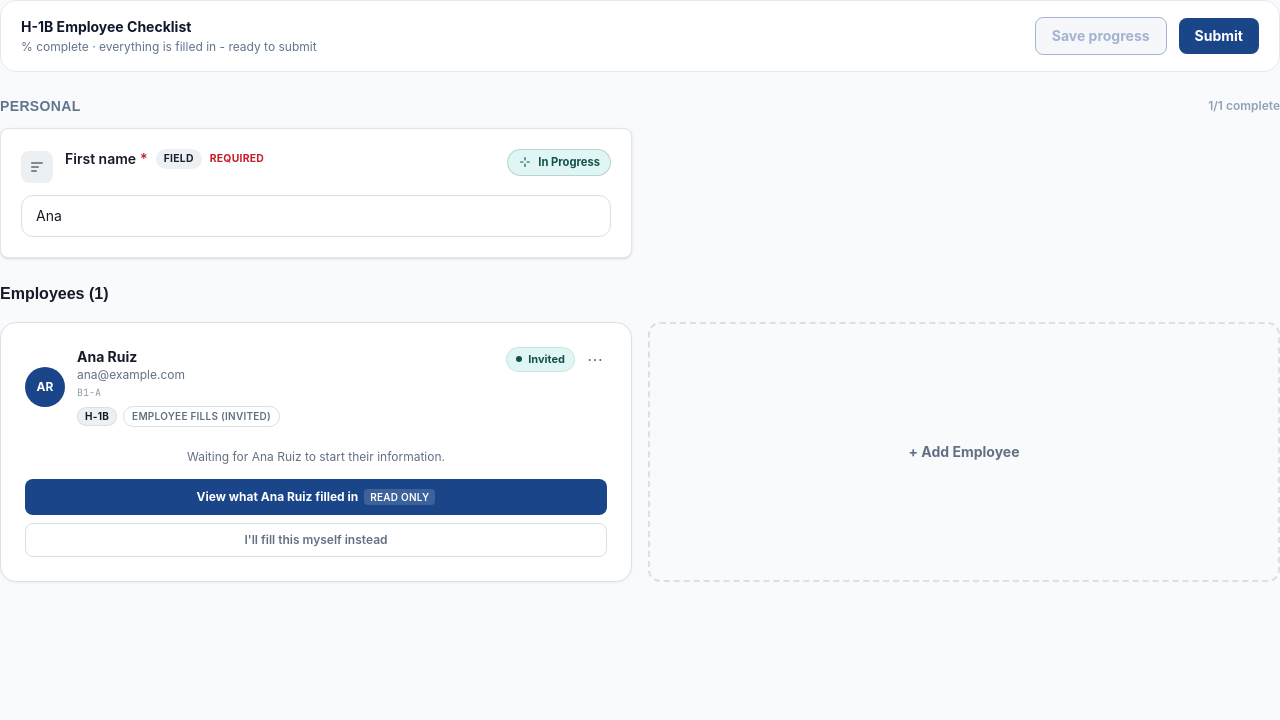
Scenario: read-only view of an invited employee › 'I'll fill this myself instead' asks in a themed centred dialog, then withdraws the access and the SAME screen becomes editable (nothing is lost)
What coordinates should you click on to do the following:
click the button "View what Ana Ruiz filled in"
I would click on:
 (316, 497)
Its box is [25,479,607,515].
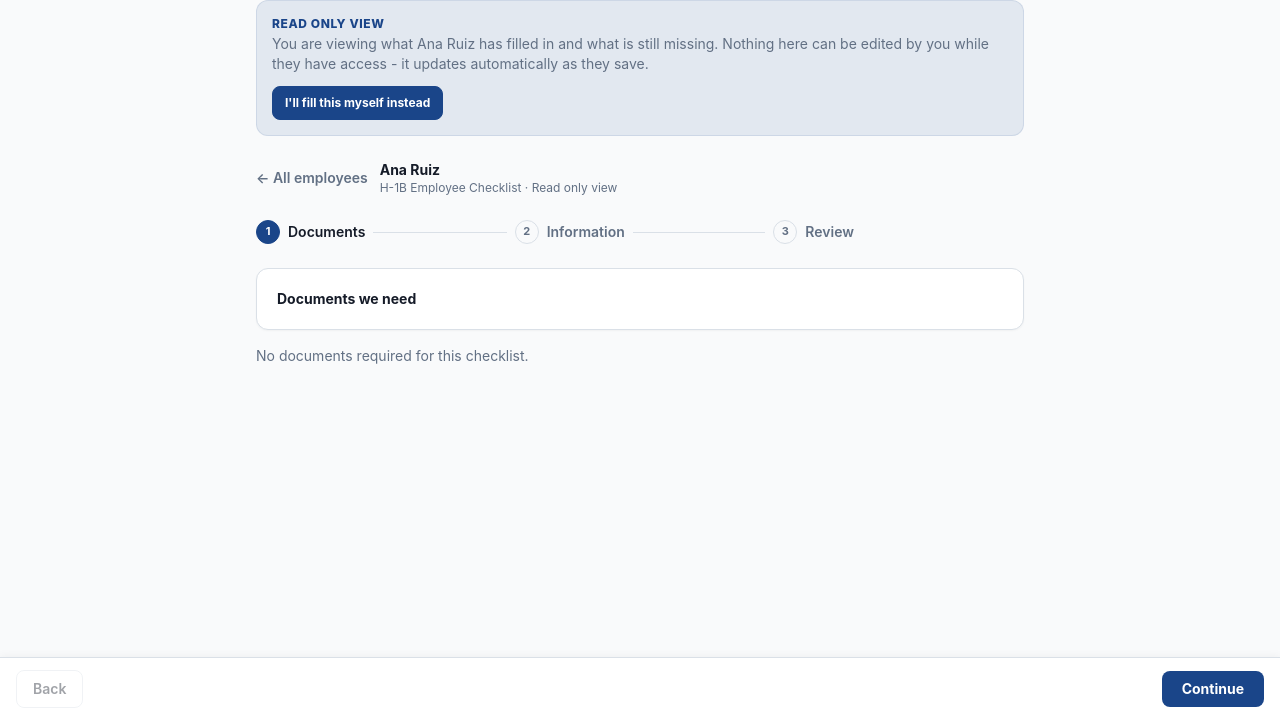
What coordinates should you click on to do the following:
click the button "I'll fill this myself instead"
I would click on:
 (358, 103)
Its box is [272,86,443,120].
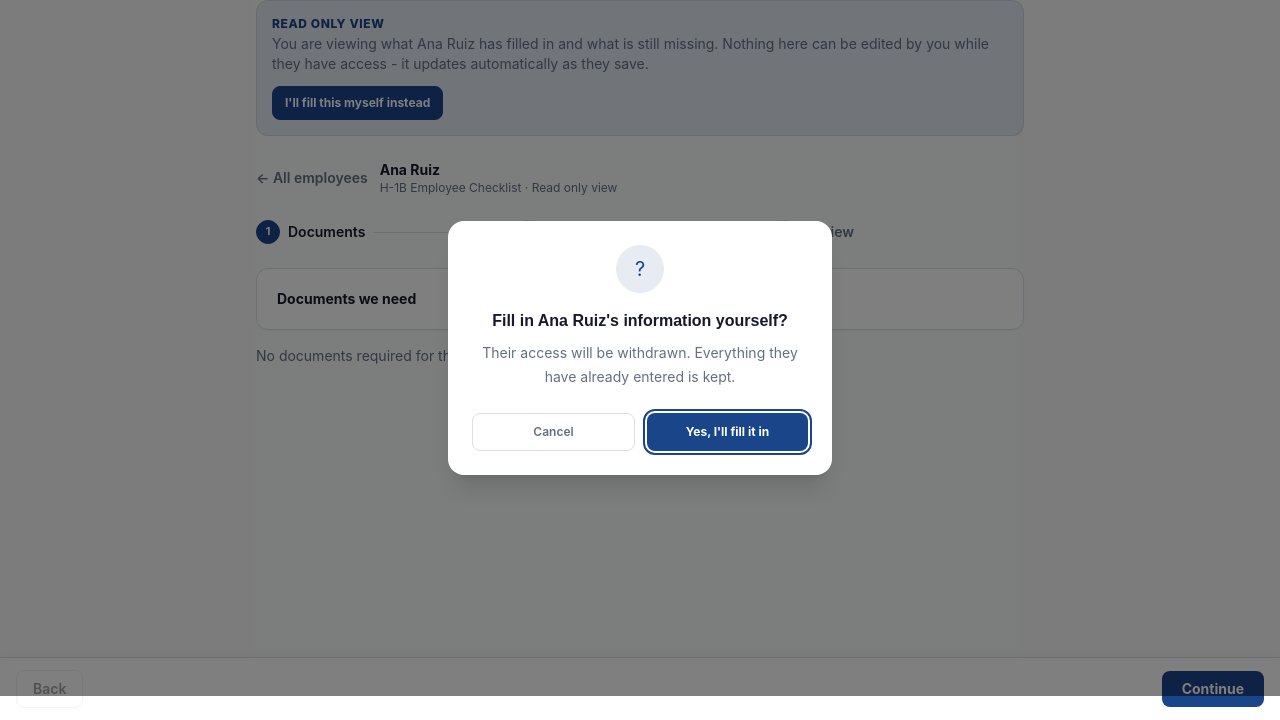
Now the dialog shows "Fill in Ana Ruiz's information yourself?", box [492,312,788,329]
Now the dialog shows "Everything they have already entered is kept", box [482,344,798,385]
What coordinates should you click on to do the following:
click the button "Yes, I'll fill it in"
I would click on:
 (728, 432)
Its box is [647,413,808,451].
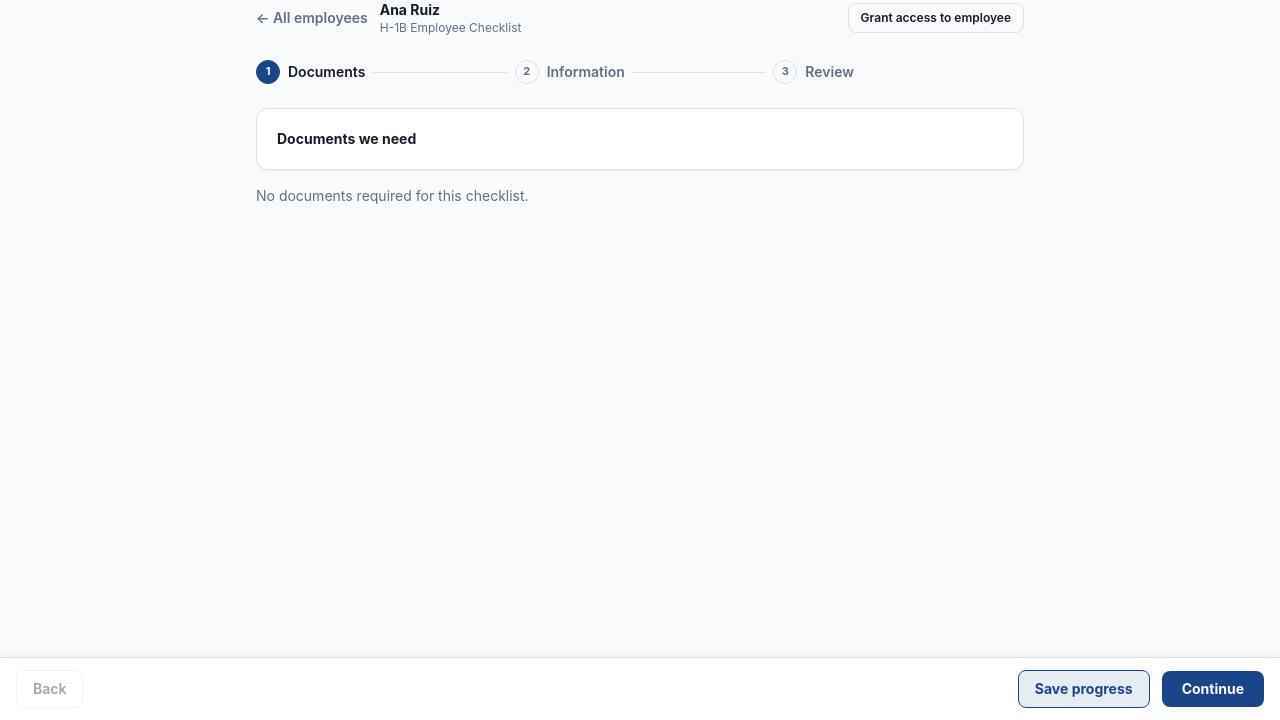
Now the message with test id "read-only-banner" is gone
Now the button "Save progress" is shown, box [1018,670,1150,708]
Now the button "Grant access to employee" is shown, box [848,3,1024,33]
